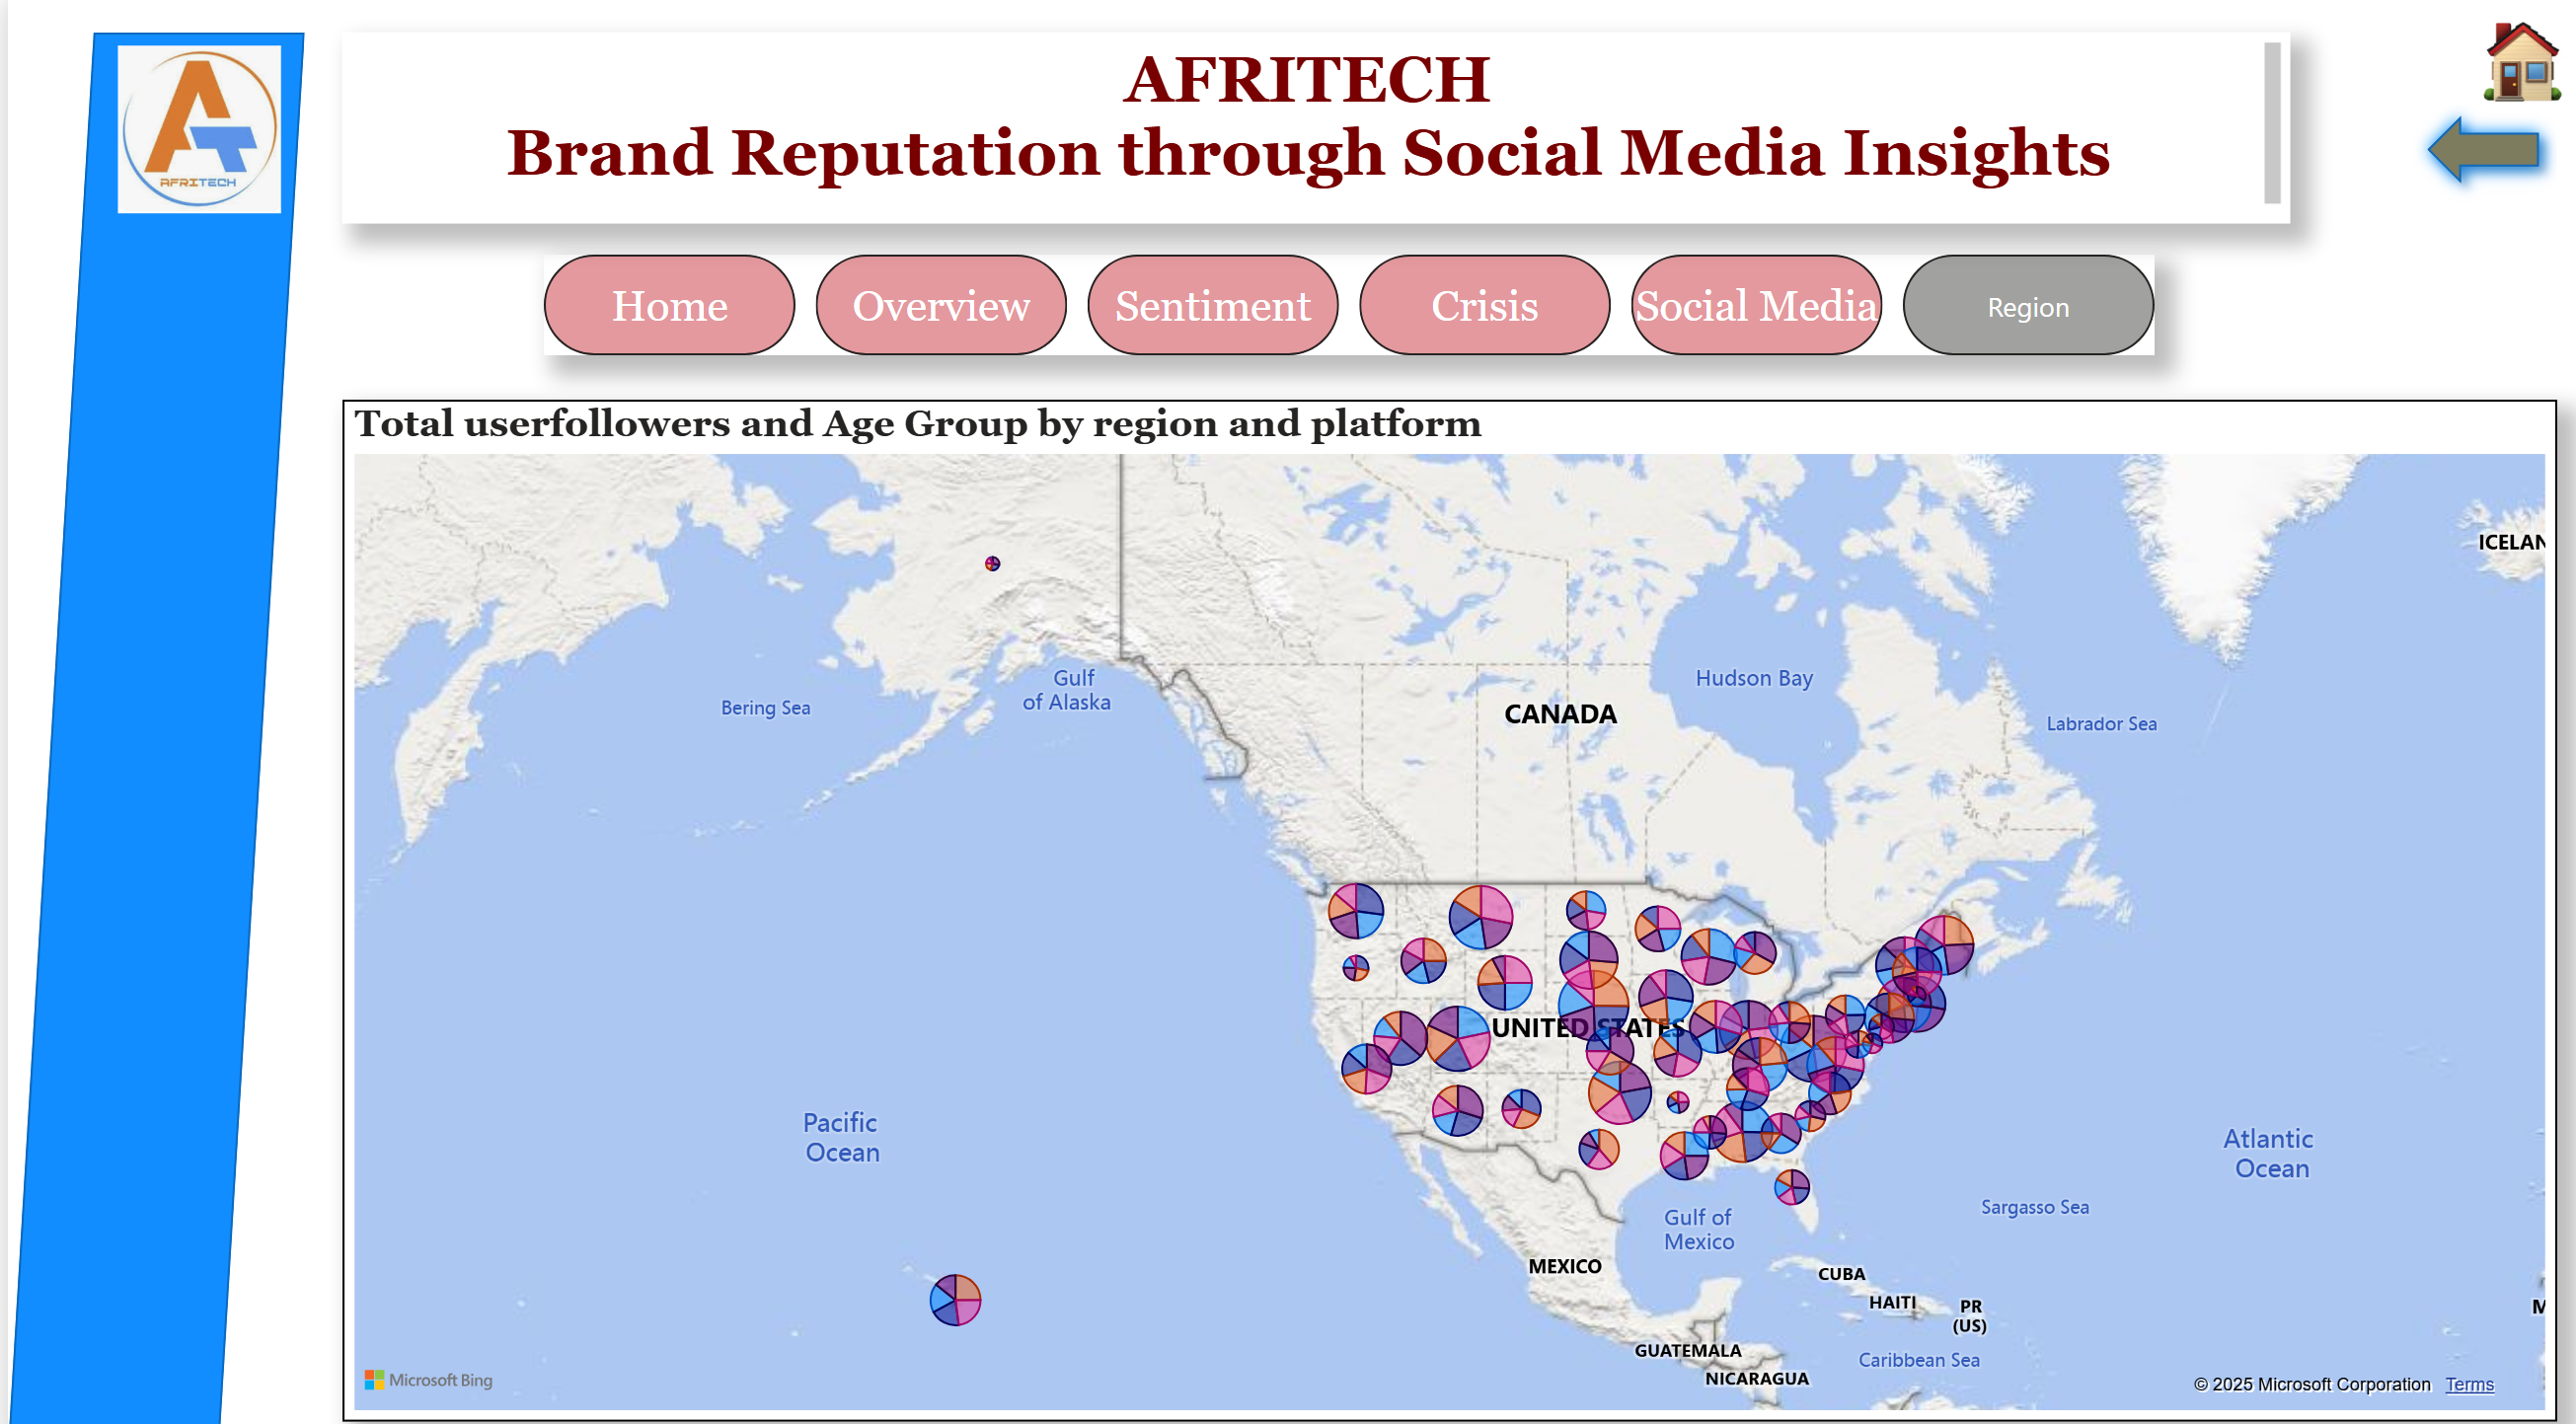

The page's visual inventory and layout, read from the dashboard file:
{"tool":"powerbi","page":{"name":"Region","canvas":[1280,720],"ordinal":5},"visuals":[{"type":"shape","box":[0,16.9,147.5,703.4],"z":0,"group":"g1"},{"type":"pageNavigator","box":[265.6,128.1,800,50],"z":0},{"type":"textbox","box":[166.1,16.9,967.8,94.9],"z":1000},{"type":"group","id":"g1","title":"Group 1","box":[0,16.9,147.5,703.4],"z":2000},{"type":"shape","box":[1192.2,50,73.4,51.6],"z":3000},{"type":"map","title":"Total userfollowers and Age Group by region and platform","fields":{"Series":["public platform.platform"],"Size":["Sum(public socialmedia.userfollowers)"],"Category":["public customers.region"]},"box":[165.6,200,1100,507.8],"z":4000},{"type":"image","box":[1223.4,0,51.6,64.1],"z":5000},{"type":"image","box":[42.4,18.6,105.1,93.2],"z":5000,"group":"g1"}]}

Visuals, with their boxes in screenshot pixels (x1, y1, x2, y2), scaled from the page's 1280x720 canvas onto the 2576x1424 screenshot:
shape: 0,34,297,1423
pageNavigator: 535,254,2145,352
textbox: 335,34,2282,221
"Group 1" group: 0,34,297,1423
shape: 2399,99,2547,201
"Total userfollowers and Age Group by region and platform" map: 334,396,2547,1400
image: 2462,0,2566,126
image: 85,37,297,221
